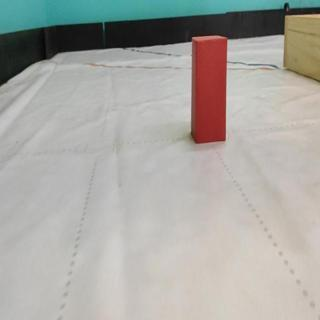redbox: (189, 33, 227, 144)
